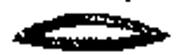Mouth: (9, 11, 174, 52)
